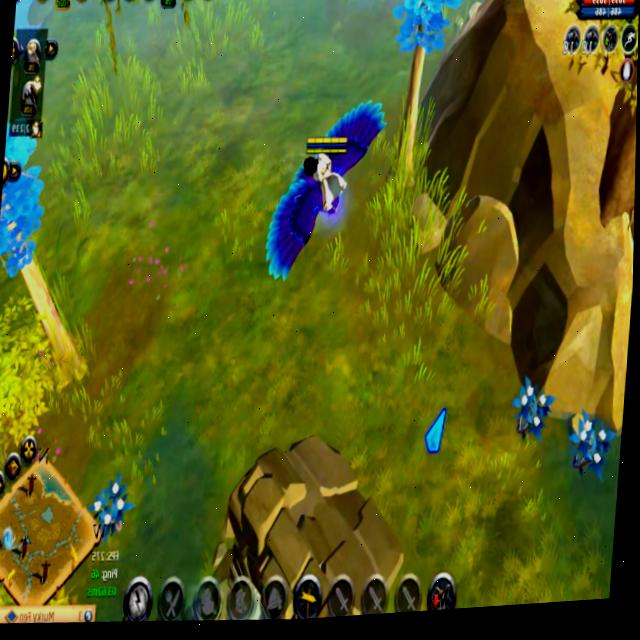hide: (566, 396, 620, 493), (84, 462, 139, 551), (506, 375, 558, 457)
red: (256, 89, 391, 301)
wisp caged: (0, 52, 116, 410), (370, 0, 481, 210)
